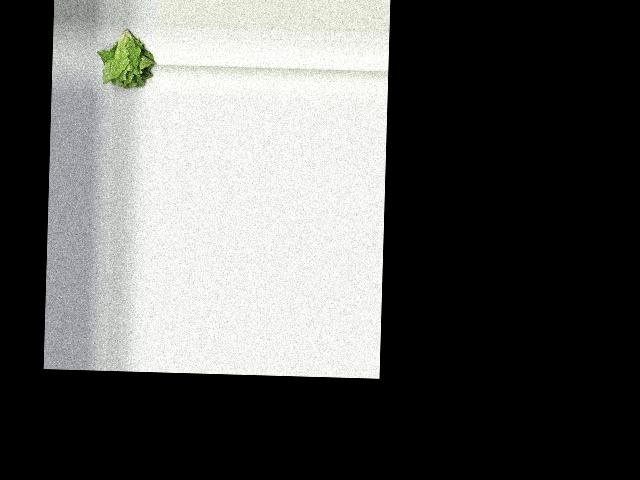lettuce: (101, 25, 155, 92)
